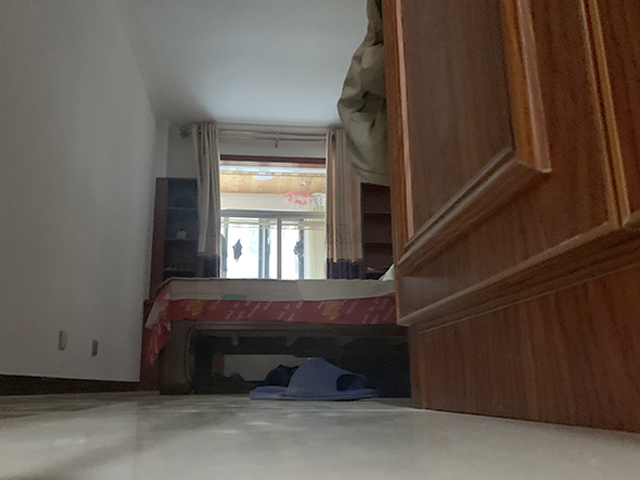bed: (147, 276, 397, 397)
curtain: (323, 124, 366, 279), (189, 118, 220, 275)
slippers: (247, 356, 381, 402)
